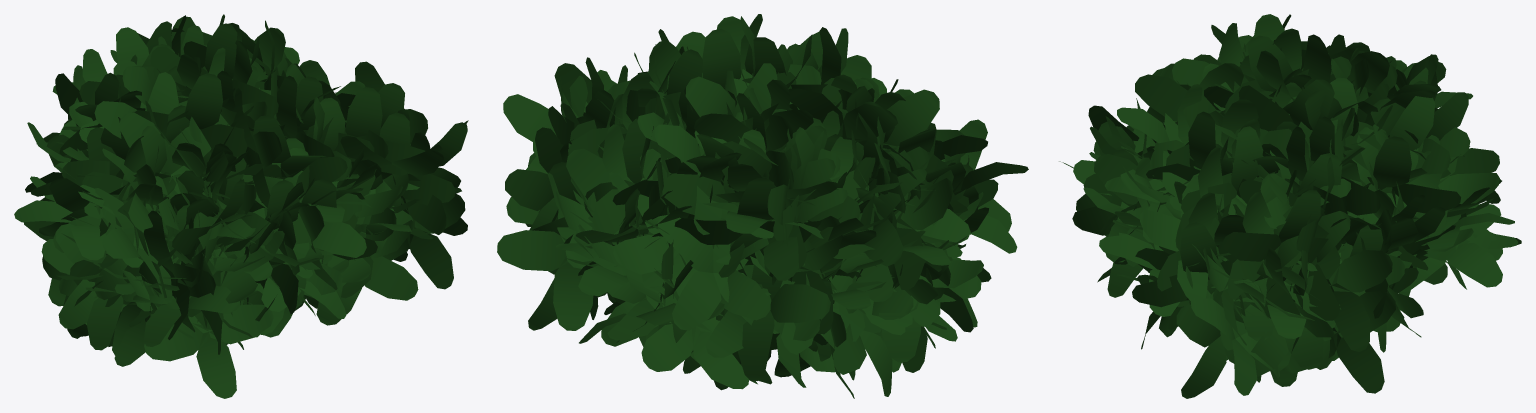
File: Arbusto_1.fbx
3 views of the same model, side by side, from view 1: azimuth 30°, elevation 25°; view 2: azimuth 150°, elevation 25°; view 3: azimuth 270°, elevation 25° (orthographic). The views are drawn at different scales.
Visible parts, largest first — view 1: Sphere.001; view 2: Sphere.001; view 3: Sphere.001.
Part boxes in pixels (x1,y1,x2,y2): Sphere.001: (14, 14, 468, 398); Sphere.001: (497, 14, 1028, 398); Sphere.001: (1059, 14, 1521, 398).
Size of the model in its own units: 1122 by 754 by 1022.
